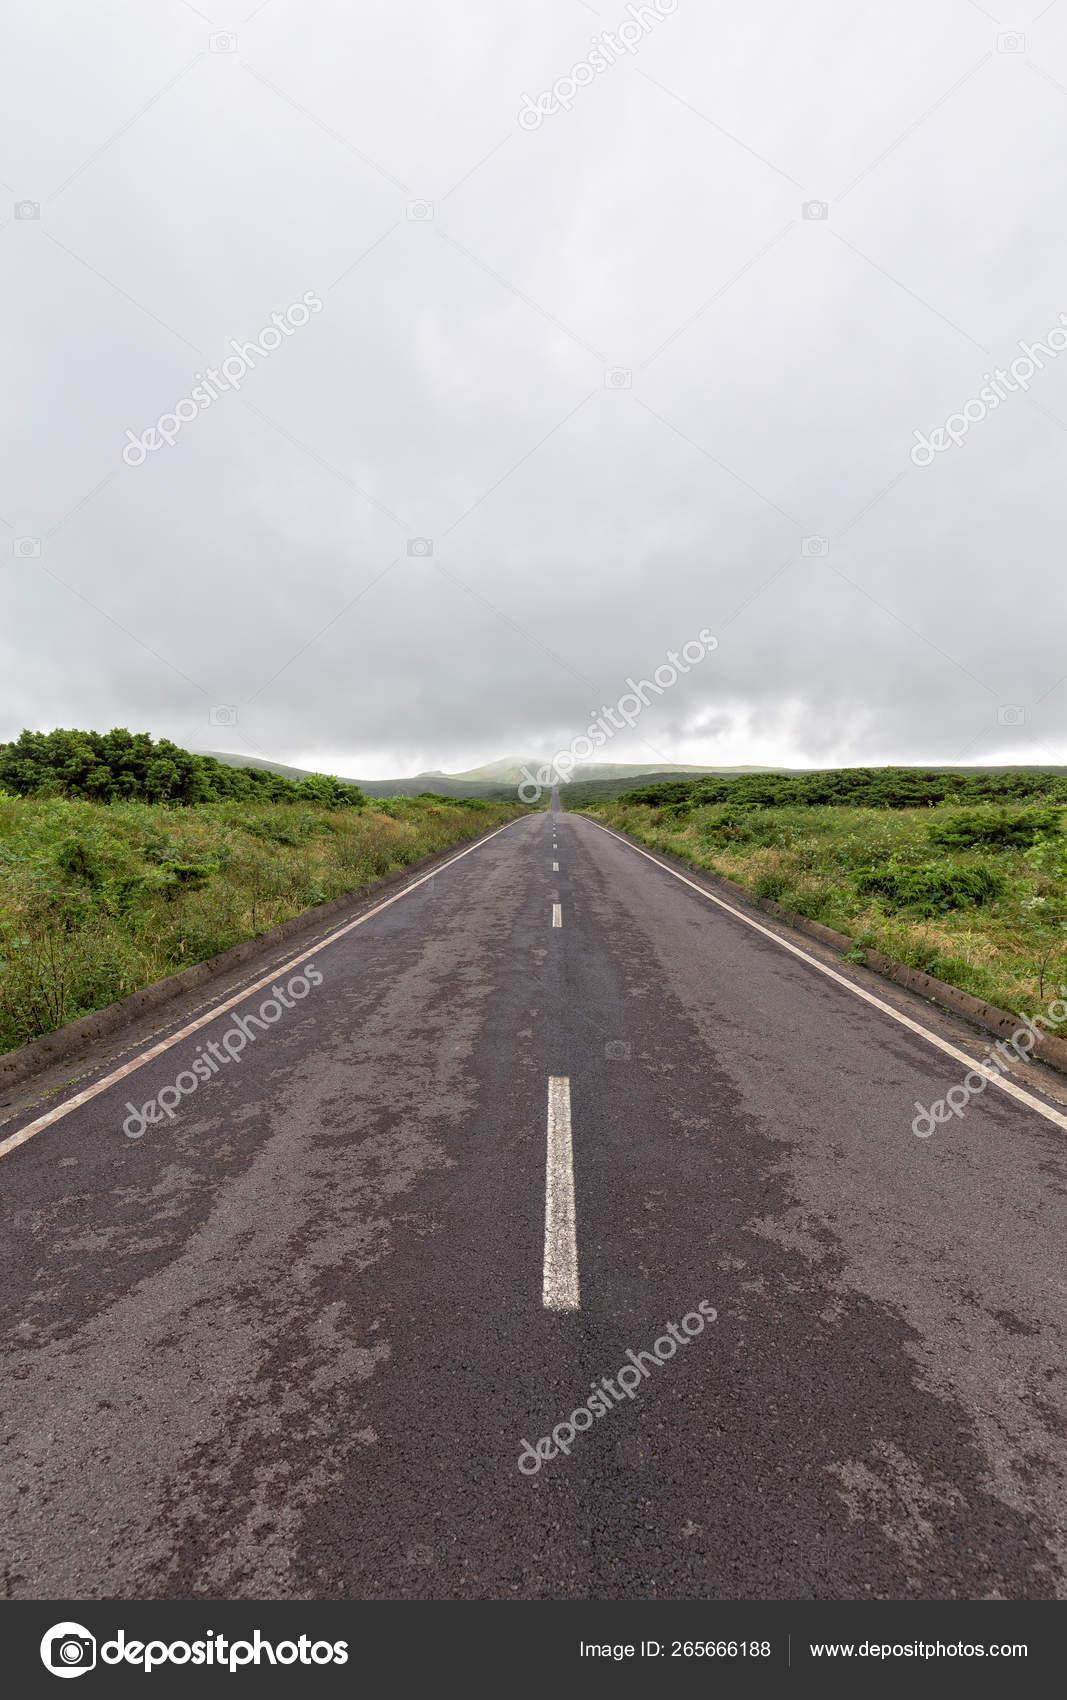language: (559, 1619, 1036, 1682), (20, 1610, 355, 1694)
watersign: (120, 281, 332, 481), (513, 1297, 730, 1484), (112, 964, 329, 1143), (514, 631, 718, 805), (479, 0, 699, 143), (904, 302, 1067, 478), (907, 999, 1067, 1162), (927, 0, 1067, 89), (184, 25, 284, 68), (787, 187, 854, 246), (0, 188, 64, 245), (387, 520, 452, 569), (983, 697, 1040, 746), (784, 527, 847, 567), (195, 695, 245, 736)
